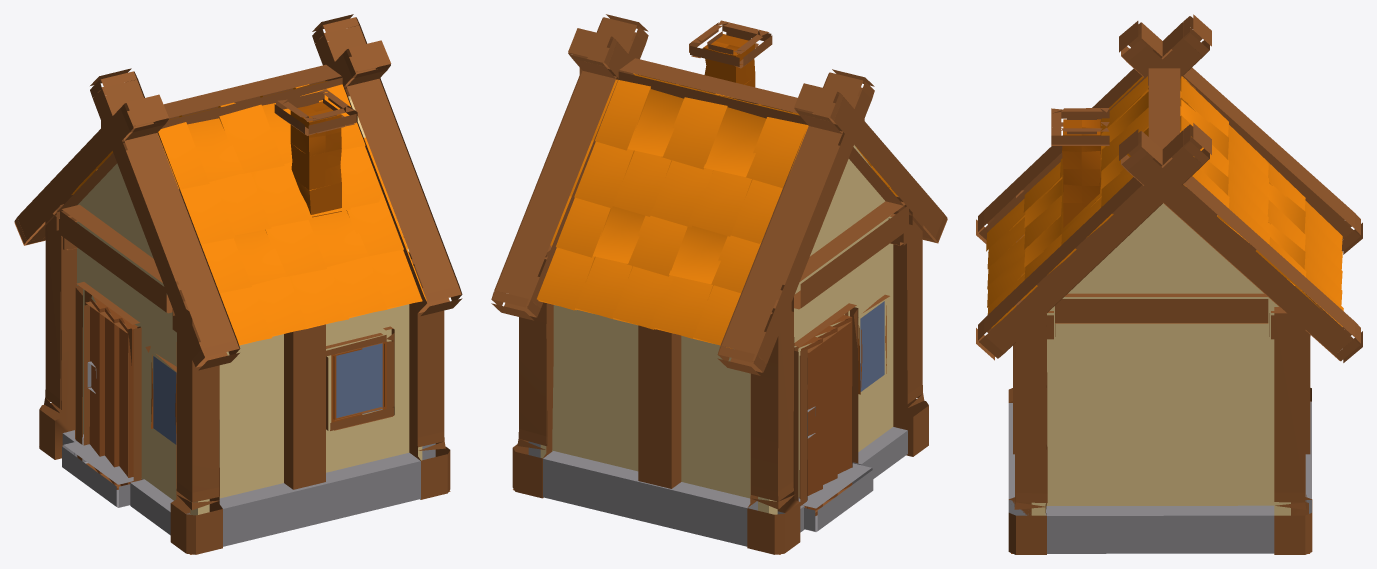
Rendered from decorLarge-village-61.glb.
3 views of the same model, side by side, from view 1: azimuth 30°, elevation 25°; view 2: azimuth 150°, elevation 25°; view 3: azimuth 270°, elevation 25° (orthographic).
Parts seen in each view (by area): view 1: piece; view 2: piece; view 3: piece.
Part boxes in pixels (x1=…): piece: x1=14, y1=14, x2=462, y2=554; piece: x1=491, y1=14, x2=947, y2=554; piece: x1=976, y1=14, x2=1362, y2=554.
Bounding box in the file's own units: 11.02 × 15.98 × 13.58.
Materials: 1 (1 with a texture image).
